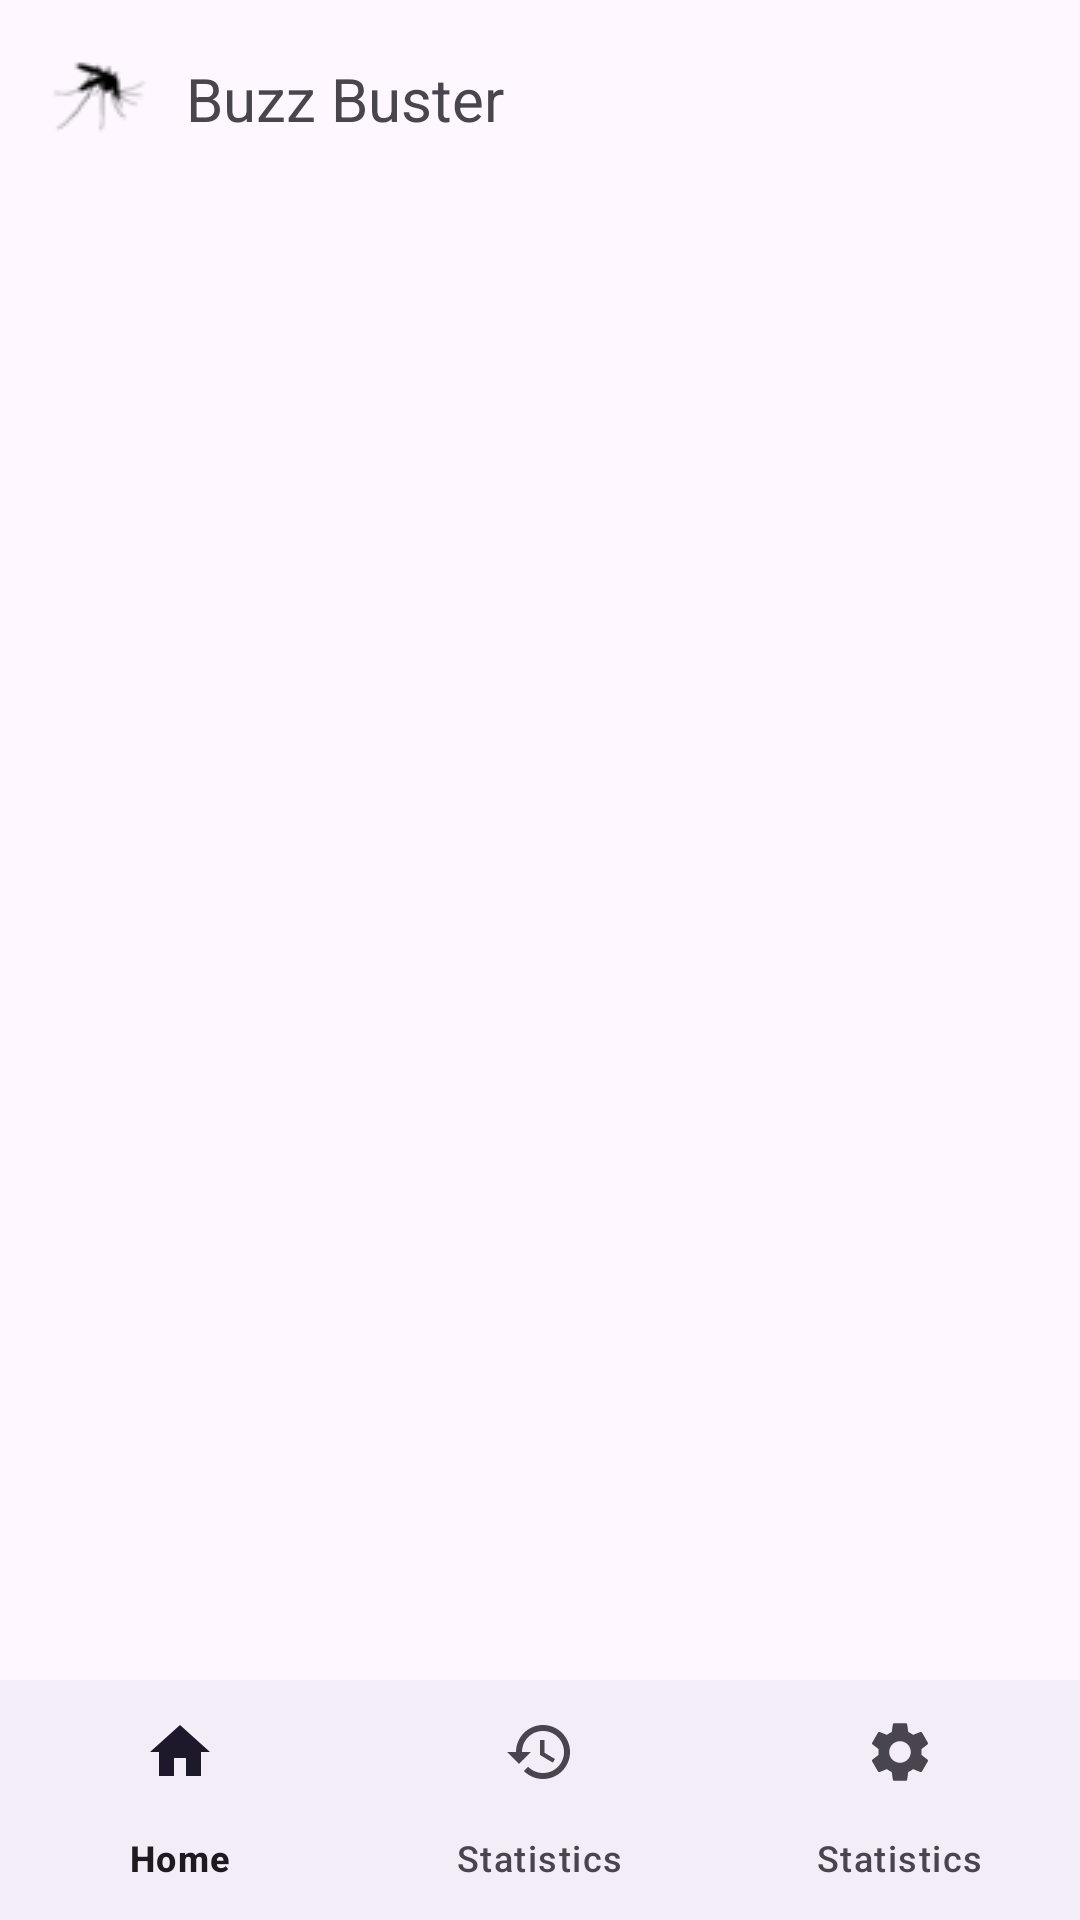

Where icons sit on this 1080*1920 app screen, as {"x1": x1, "y1": y1, "x2": x2, "y2": y2}:
mosquito: {"x1": 56, "y1": 62, "x2": 143, "y2": 130}
